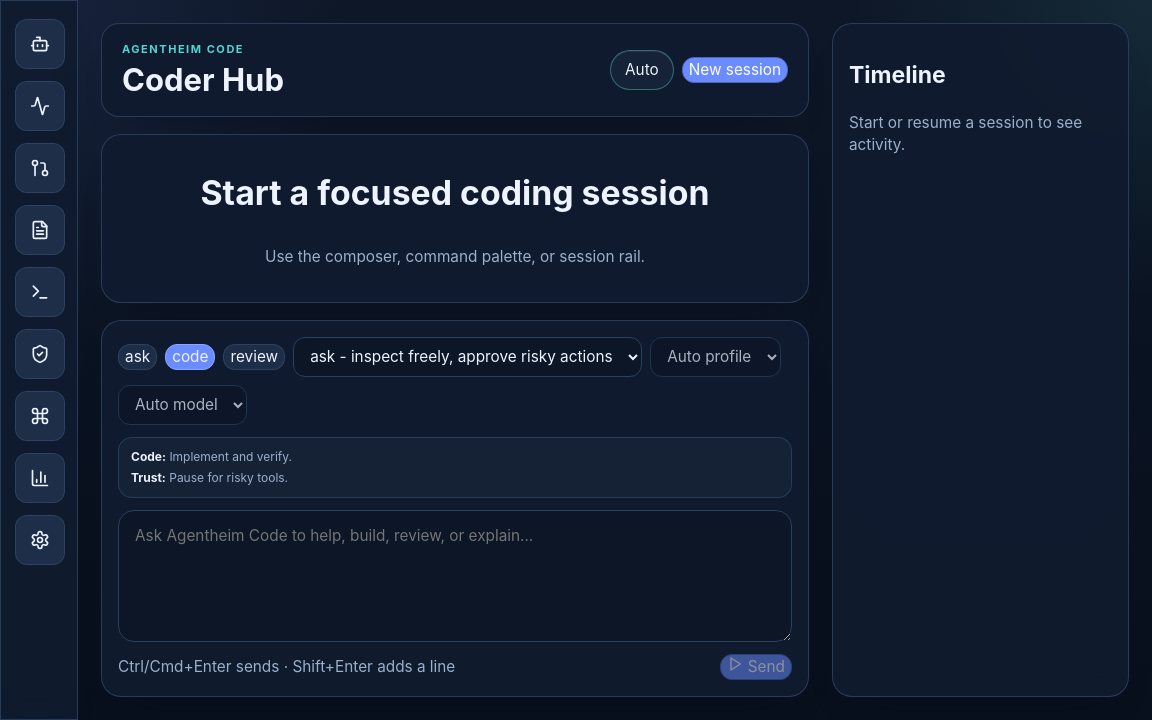
Test: App API integration › shows clear session error when auto-create fails
Step 1. Type "hello" into the text box with placeholder "Ask Agentheim Code to help, build, review, or explain..." → (455, 576), box [118, 510, 792, 642]
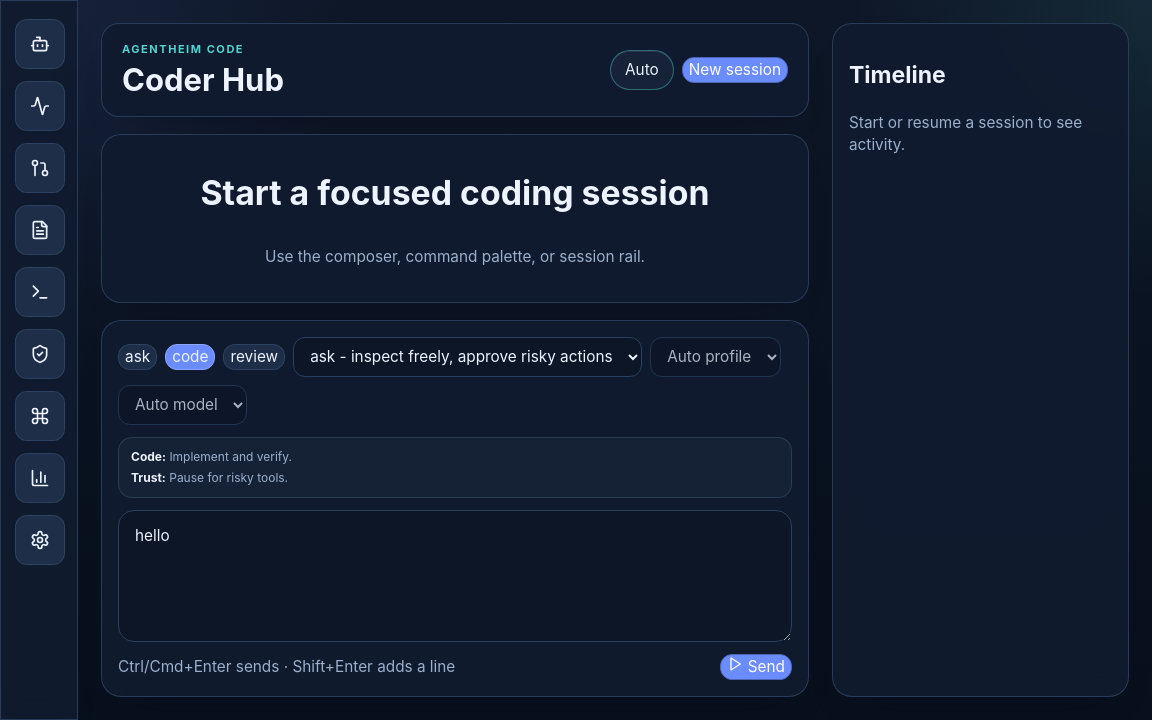
Step 2. Click the button "Send" → (756, 667), box [720, 654, 792, 680]
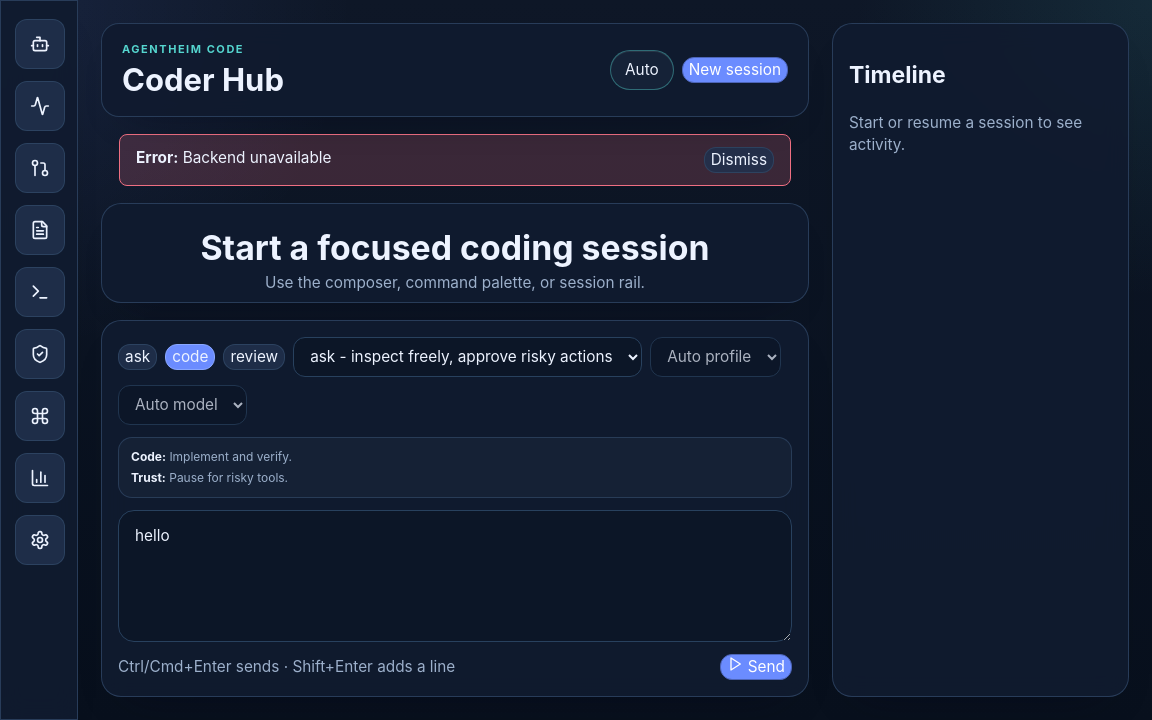
Check: the text "Error: Backend unavailable Dismiss" is shown, box [119, 134, 791, 186]
